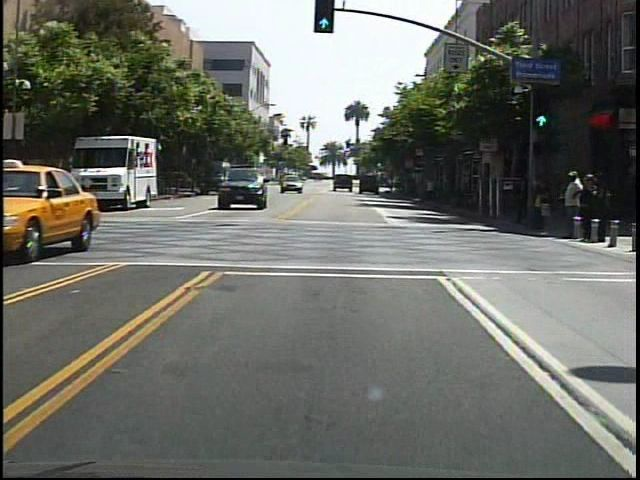person: (557, 166, 584, 240)
